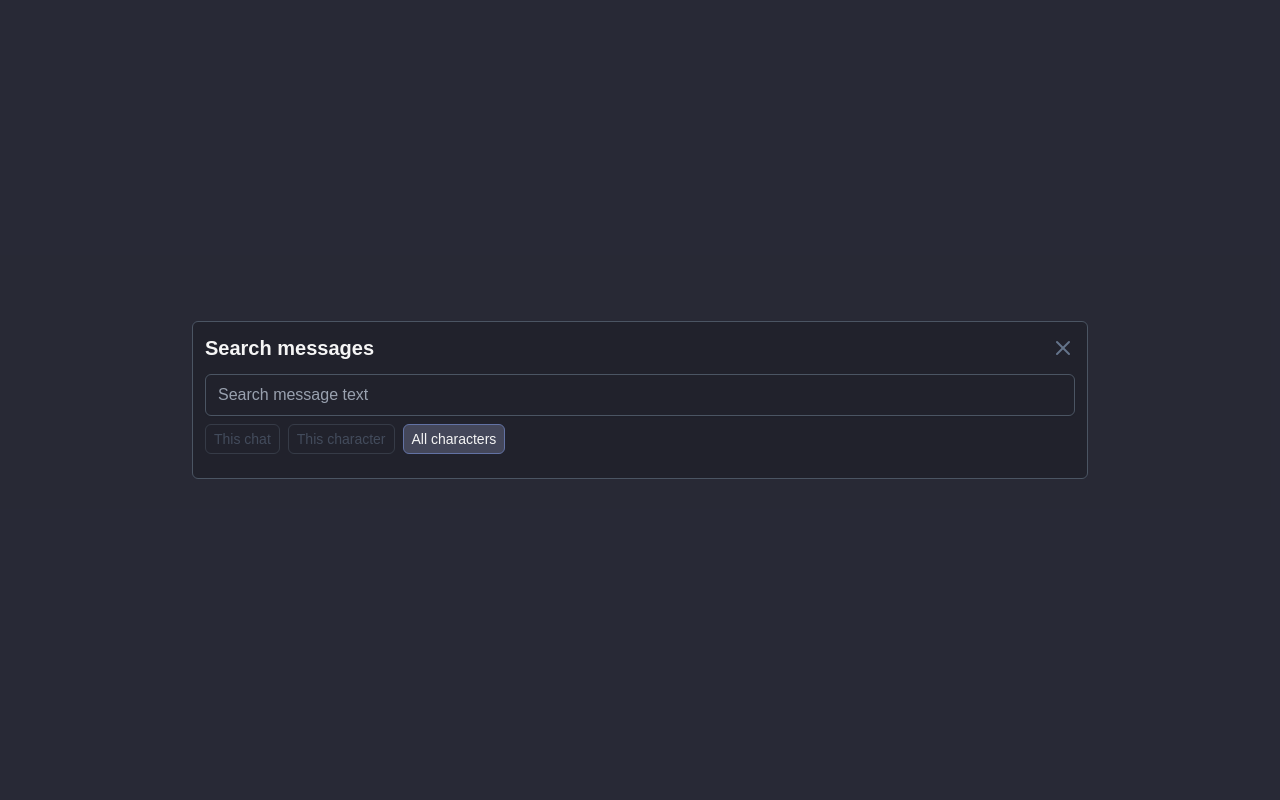
it: paging › re-asks an empty page with a next up to five times per action, then offers Load more with a fresh budget
Check: the dialog is shown, box [192,321,1088,479]
Type "abc" into the search field with placeholder "Search message text" at (640, 395), box [205,374,1075,416]
Wait 300 ms
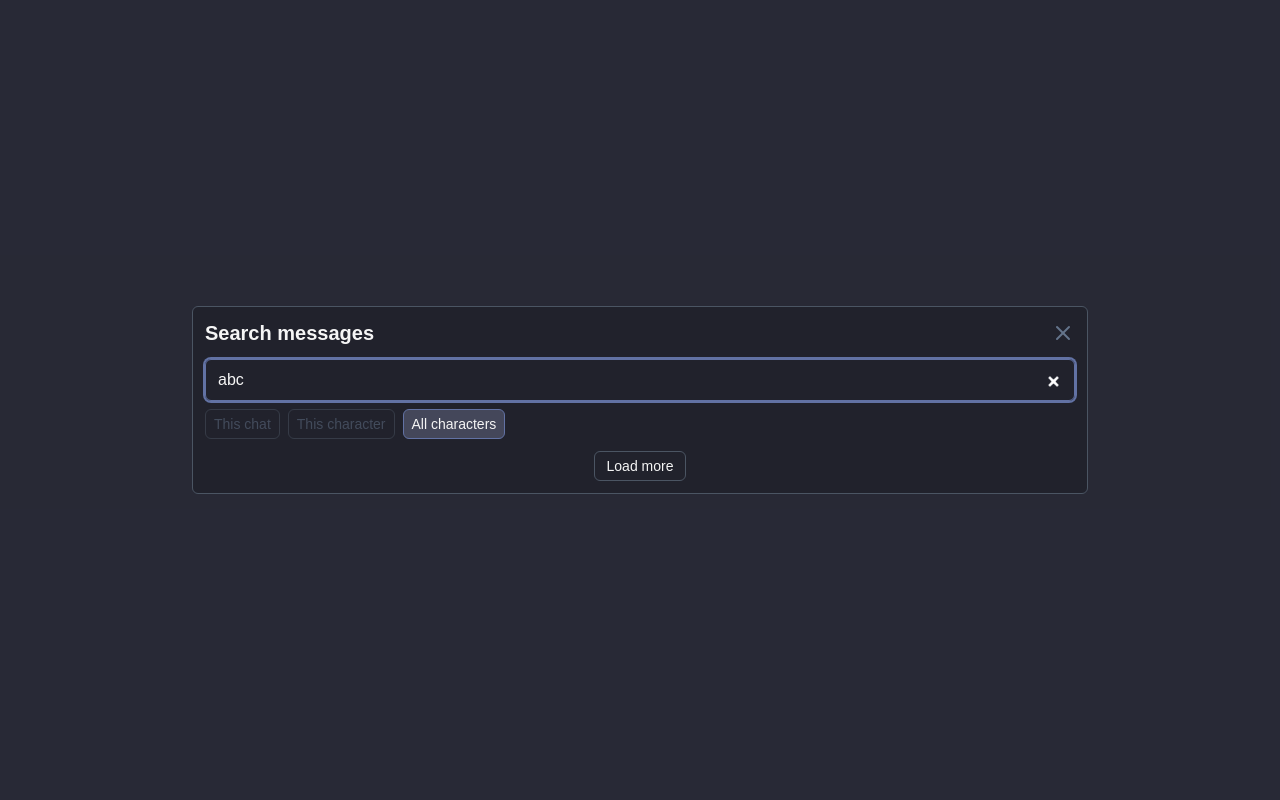
Check: the text "No messages match." is not shown
Check: the button "Load more" is shown
Click the button "Load more" at (640, 466), box [594,451,686,481]
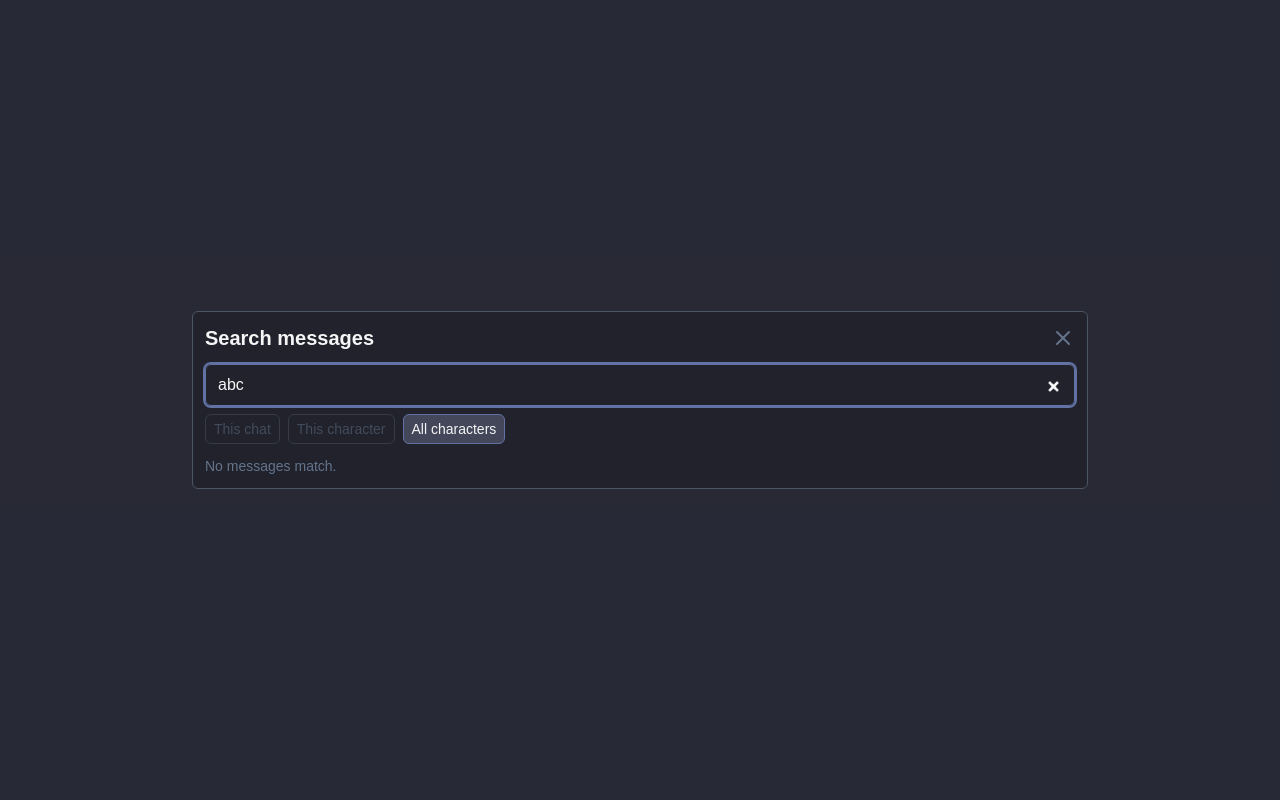
Check: the dialog shows "No messages match.", box [205,458,336,474]
